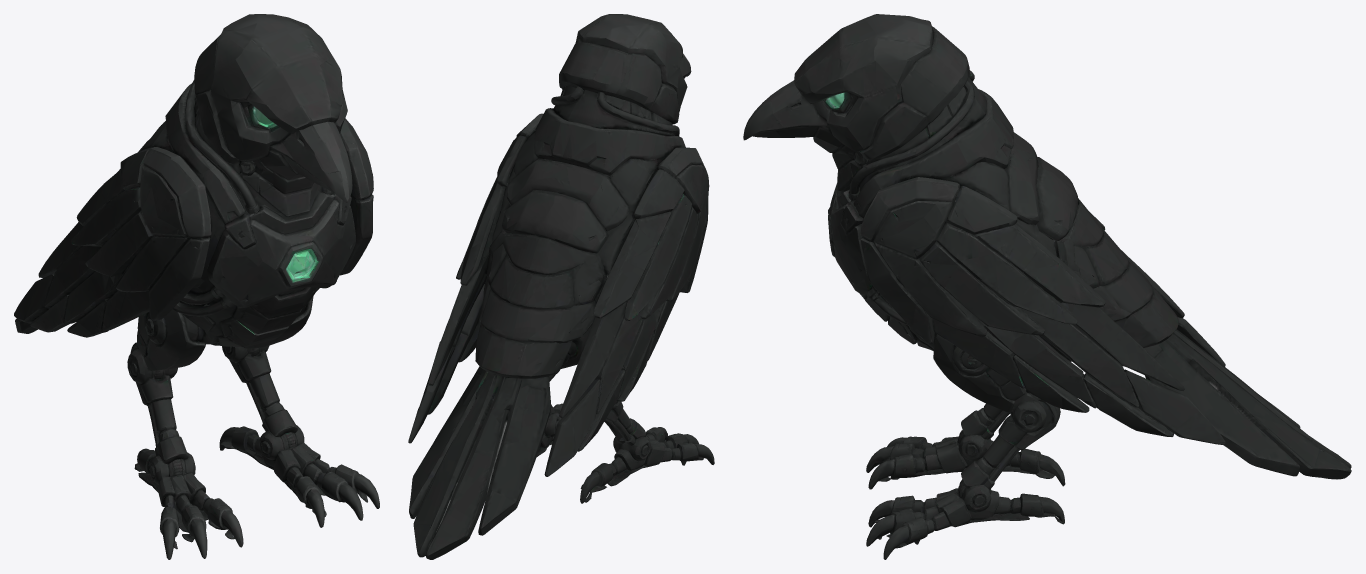
The model's file is rook.glb.
3 renders of one model, left to right at view 1: azimuth 30°, elevation 25°; view 2: azimuth 150°, elevation 25°; view 3: azimuth 270°, elevation 25°, orthographic. The views are drawn at different scales.
Parts seen in each view (by area): view 1: mesh_node; view 2: mesh_node; view 3: mesh_node.
Part boxes in pixels (<box>): mesh_node: <box>14,14,379,559</box>; mesh_node: <box>408,14,714,559</box>; mesh_node: <box>743,14,1351,559</box>.
Size of the model in its own units: 0.7815 by 1.69 by 1.9.
1 material, 1 textured.
